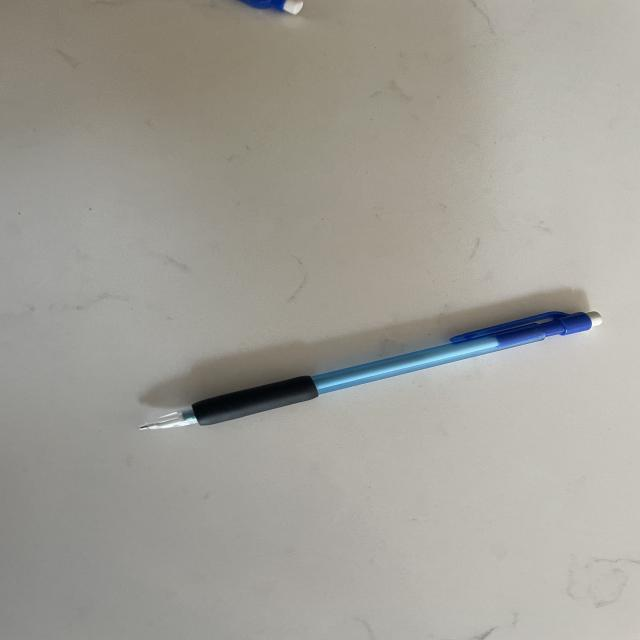mechanical-pencils: (132, 299, 610, 435)
